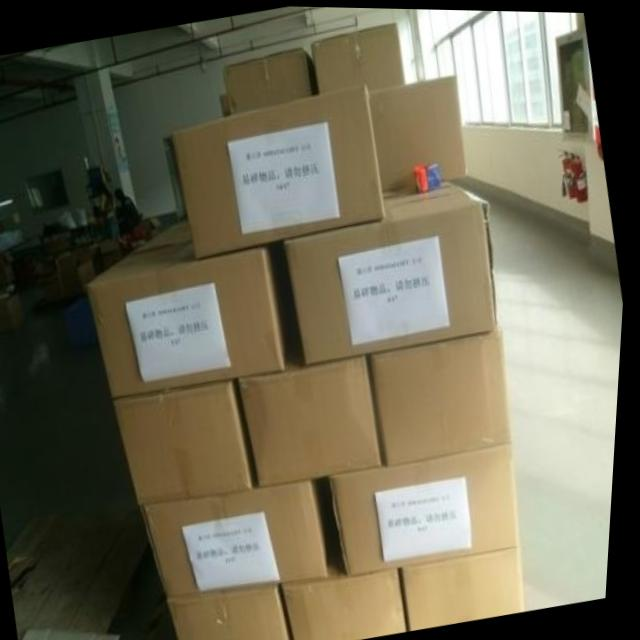box: (288, 170, 503, 362), (176, 81, 388, 258), (90, 239, 293, 397), (335, 441, 528, 574), (147, 476, 334, 595), (372, 328, 521, 462), (240, 357, 389, 483), (114, 380, 261, 506), (369, 74, 469, 188), (408, 542, 531, 628), (286, 566, 417, 640), (174, 581, 301, 640), (225, 44, 320, 113), (311, 21, 406, 90), (137, 215, 195, 249)
